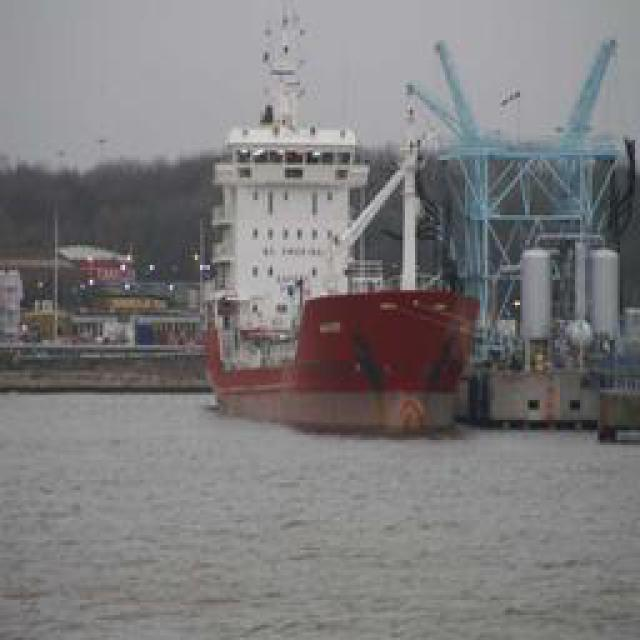Ship: (199, 1, 488, 448)
